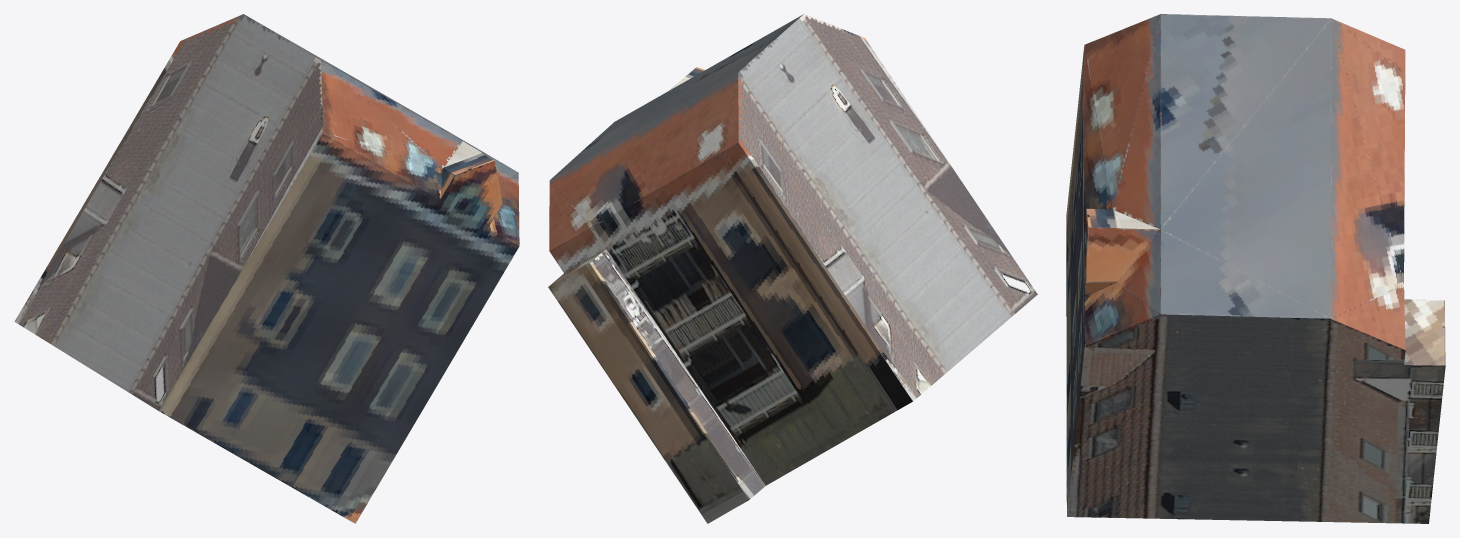
3 renders of one model, left to right at view 1: azimuth 30°, elevation 25°; view 2: azimuth 150°, elevation 25°; view 3: azimuth 270°, elevation 25°, orthographic. The views are drawn at different scales.
Parts seen in each view (by area): view 1: BAG_0599100000688713 (×5); view 2: BAG_0599100000688713 (×5); view 3: BAG_0599100000688713 (×6).
Part boxes in pixels (bbox=[...]): BAG_0599100000688713 (×5): bbox=[14, 14, 519, 523]; BAG_0599100000688713 (×5): bbox=[548, 14, 1037, 523]; BAG_0599100000688713 (×6): bbox=[1066, 14, 1445, 523].
Size of the model in its own units: 15.63 by 16.24 by 10.77.
6 materials, 6 textured.
